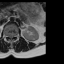CCS_normal: (10, 33, 12, 41)
LFS_stenosis: (14, 33, 16, 38)
LLS_normal: (12, 33, 14, 38)
RFS_stenosis: (6, 33, 8, 38)
RLS_normal: (8, 33, 10, 39)
